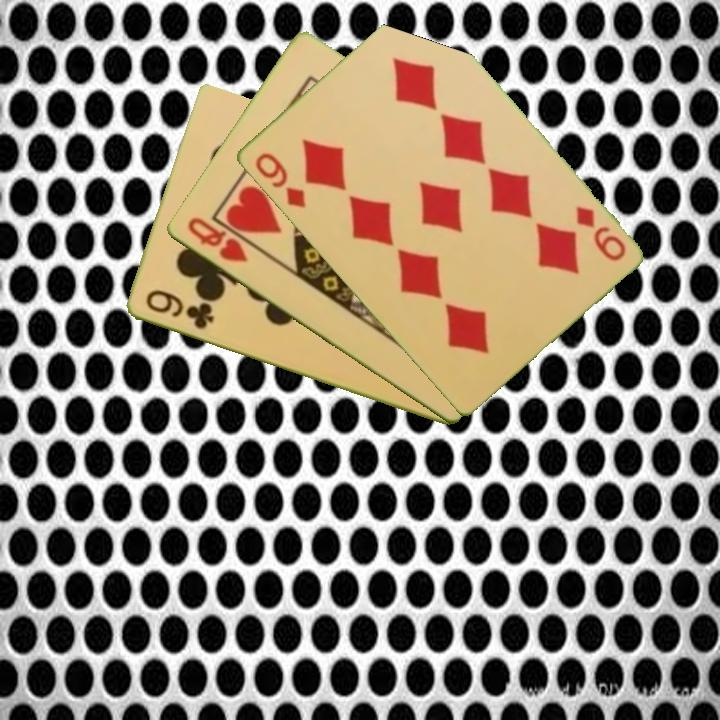9c: (141, 286, 217, 332)
9d: (250, 149, 308, 212), (571, 202, 629, 265)
Qh: (183, 213, 251, 266)
